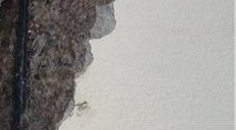Corrosion: (1, 1, 117, 130)
Exposed reinforcement: (11, 1, 28, 130)
